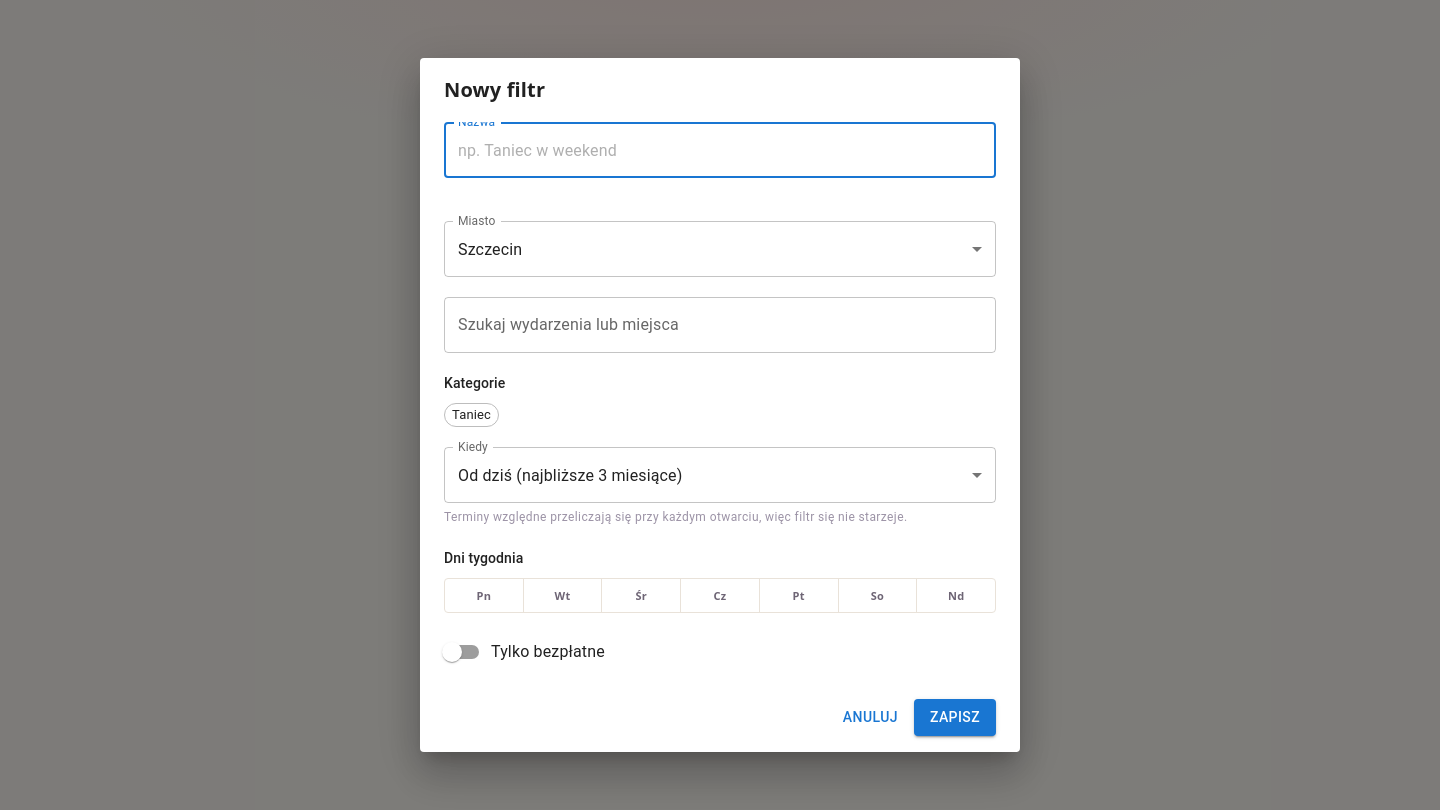
it: PresetEditorDialog required-field feedback › clears the summary once the field is filled in
Click the button "Zapisz": click(955, 718) [914,699,996,736]
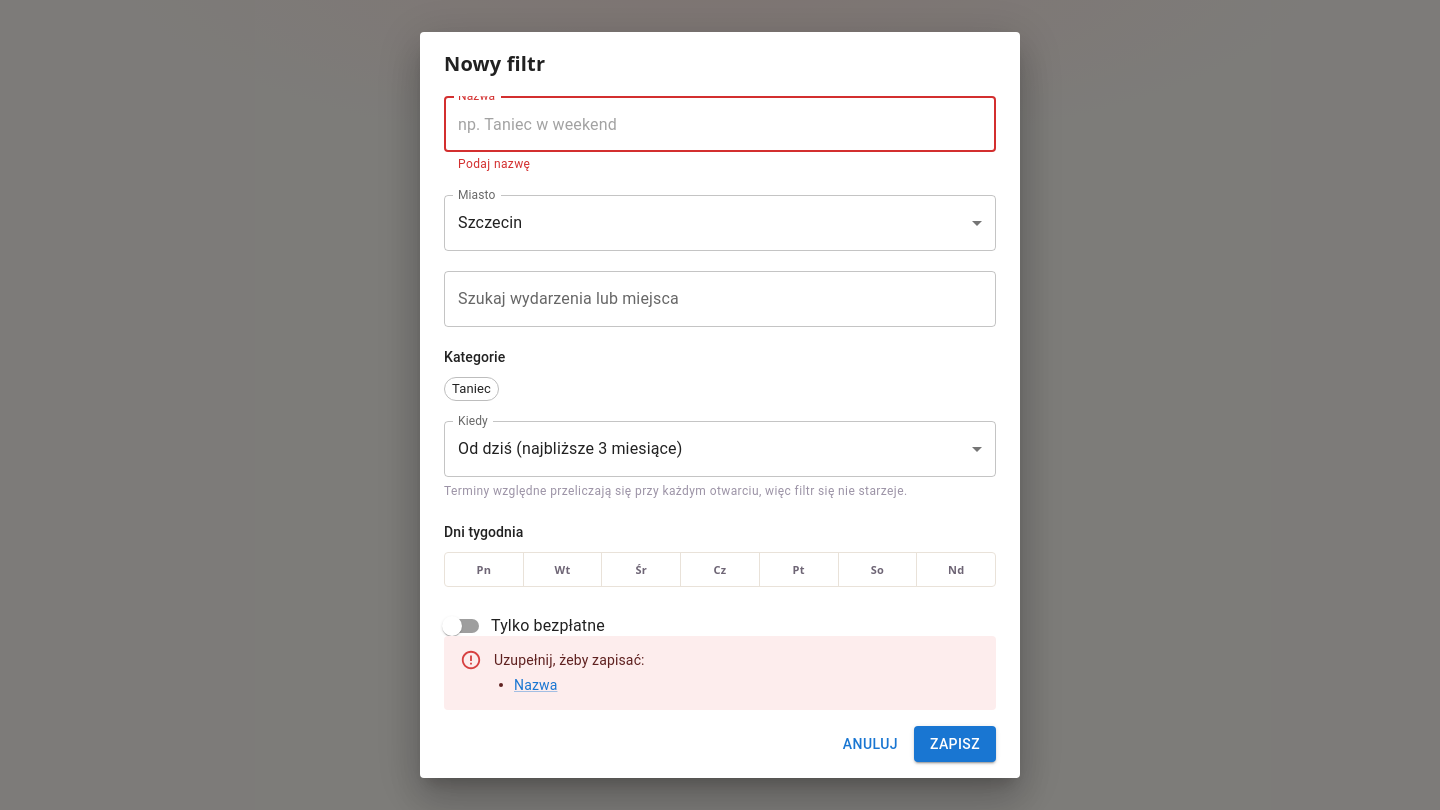
Now the message "Uzupełnij, żeby zapisać: Nazwa" is shown, box [444,636,996,710]
In the field labelled "Nazwa": (720, 124) [444,96,996,152], type "Weekend"
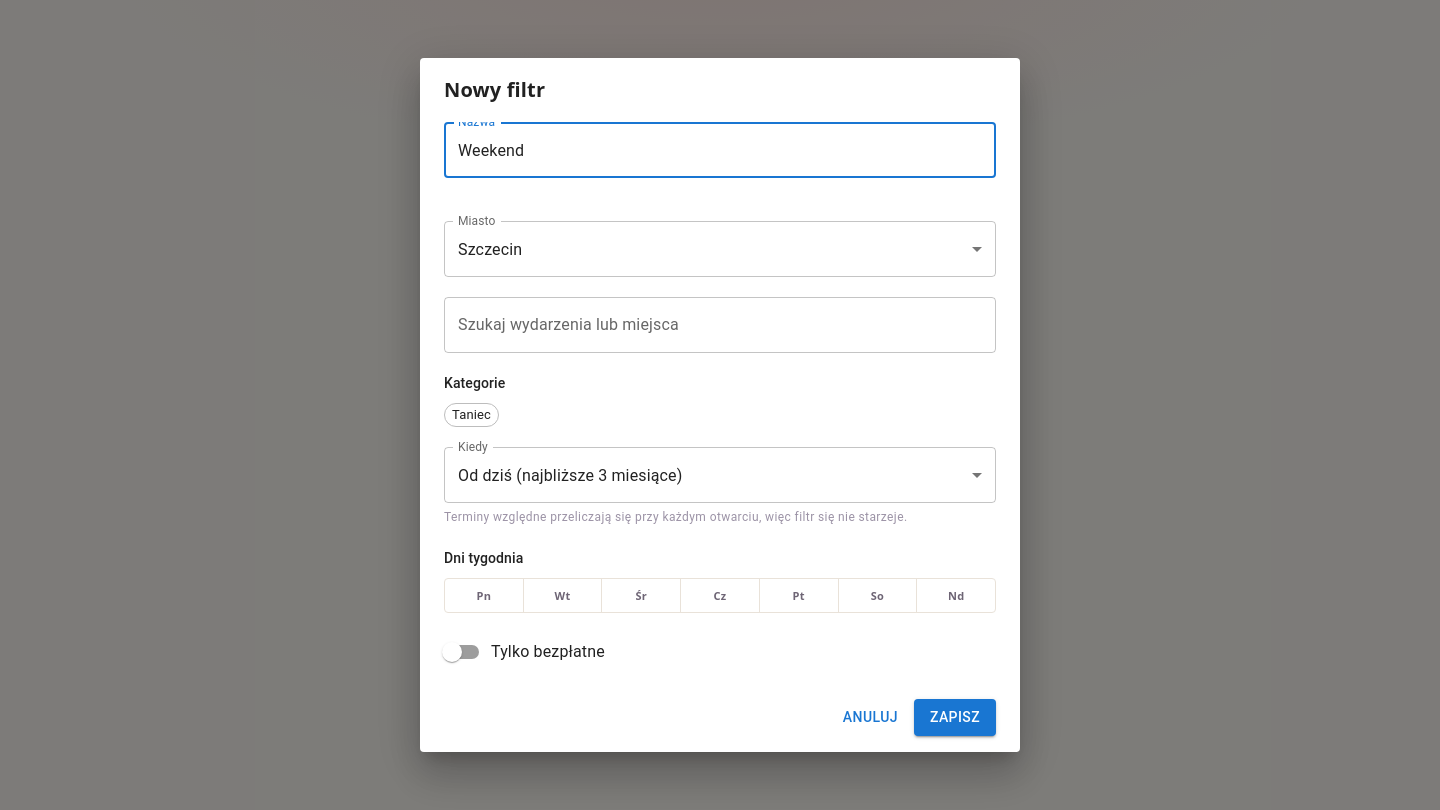
Now the message "Uzupełnij, żeby zapisać: Nazwa" is gone
